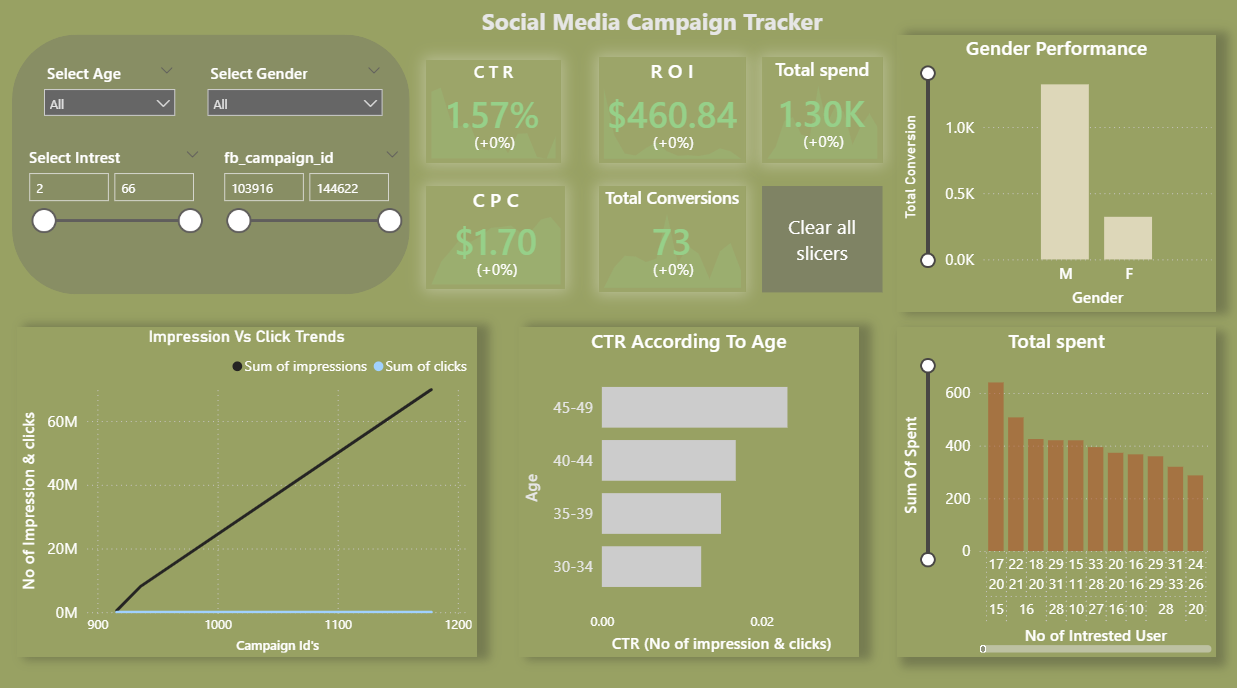

The page's visual inventory and layout, read from the dashboard file:
{"tool":"powerbi","page":{"name":"Page 1","canvas":[1280,720],"ordinal":0},"visuals":[{"type":"kpi","title":"Total spend","fields":{"Indicator":["data.Total spend"],"TrendLine":["data.reporting_start"],"Goal":["data.Total spend"]},"box":[788.4,61.5,124.7,110.1],"z":0},{"type":"kpi","title":"Total Conversions","fields":{"TrendLine":["data.reporting_start"],"Indicator":["data.Total_conversions"],"Goal":["data.Total_conversions"]},"box":[618.4,195.9,152.2,110.1],"z":1000},{"type":"kpi","title":"C T R","fields":{"Indicator":["data.CTr"],"TrendLine":["data.reporting_start"],"Goal":["data.CTr"]},"box":[440.3,64.8,139.2,106.8],"z":2000},{"type":"kpi","title":"C P C","fields":{"Indicator":["data.cpc"],"TrendLine":["data.reporting_start"],"Goal":["data.cpc"]},"box":[440.3,195.9,144.1,106.8],"z":3000},{"type":"kpi","title":"R O I","fields":{"Indicator":["data.ROI"],"TrendLine":["data.reporting_start"],"Goal":["data.ROI"]},"box":[618.4,61.5,152.2,110.1],"z":4000},{"type":"barChart","title":"CTR According To Age","fields":{"Category":["data.age"],"Y":["data.CTr"]},"box":[535.9,341.6,351.3,341.6],"z":5000},{"type":"clusteredColumnChart","title":"Gender Performance","fields":{"Category":["data.gender"],"Y":["data.Total_conversions"]},"box":[927.6,38.9,330.3,286.5],"z":6000},{"type":"lineClusteredColumnComboChart","title":"Total spent","fields":{"Category":["data.interest1","data.interest2","data.interest3"],"Y":["Sum(data.spent)"]},"box":[927.6,341.6,330.3,341.6],"z":7000},{"type":"lineChart","title":"Impression Vs Click Trends","fields":{"Category":["data.campaign_id"],"Y":["Sum(data.impressions)","Sum(data.clicks)"]},"box":[17.8,341.6,476,341.6],"z":8000},{"type":"shape","box":[13,38.9,411.2,268.7],"z":8001},{"type":"slicer","fields":{"Values":["data.age"]},"box":[35.6,61.5,155.4,87.4],"z":8002},{"type":"slicer","fields":{"Values":["data.gender"]},"box":[204,61.5,200.7,87.4],"z":8003},{"type":"slicer","fields":{"Values":["data.interest1"]},"box":[17.8,148.9,200.7,158.7],"z":8004},{"type":"slicer","fields":{"Values":["data.fb_campaign_id"]},"box":[218.5,148.9,205.6,158.7],"z":8005},{"type":"actionButton","box":[788.4,195.9,124.7,110.1],"z":8006},{"type":"textbox","box":[493.8,3.2,419.3,46.9],"z":8007}]}

Visuals, with their boxes in screenshot pixels (x1, y1, x2, y2), scaled from the page's 1280x720 canvas onto the 1237x688 screenshot:
"Total spend" kpi: Rect(762, 59, 882, 164)
"Total Conversions" kpi: Rect(598, 187, 745, 292)
"C T R" kpi: Rect(426, 62, 560, 164)
"C P C" kpi: Rect(426, 187, 565, 289)
"R O I" kpi: Rect(598, 59, 745, 164)
"CTR According To Age" barChart: Rect(518, 326, 857, 653)
"Gender Performance" clusteredColumnChart: Rect(896, 37, 1216, 311)
"Total spent" lineClusteredColumnComboChart: Rect(896, 326, 1216, 653)
"Impression Vs Click Trends" lineChart: Rect(17, 326, 477, 653)
shape: Rect(13, 37, 410, 294)
slicer - data.age: Rect(34, 59, 185, 142)
slicer - data.gender: Rect(197, 59, 391, 142)
slicer - data.interest1: Rect(17, 142, 211, 294)
slicer - data.fb_campaign_id: Rect(211, 142, 410, 294)
actionButton: Rect(762, 187, 882, 292)
textbox: Rect(477, 3, 882, 48)
